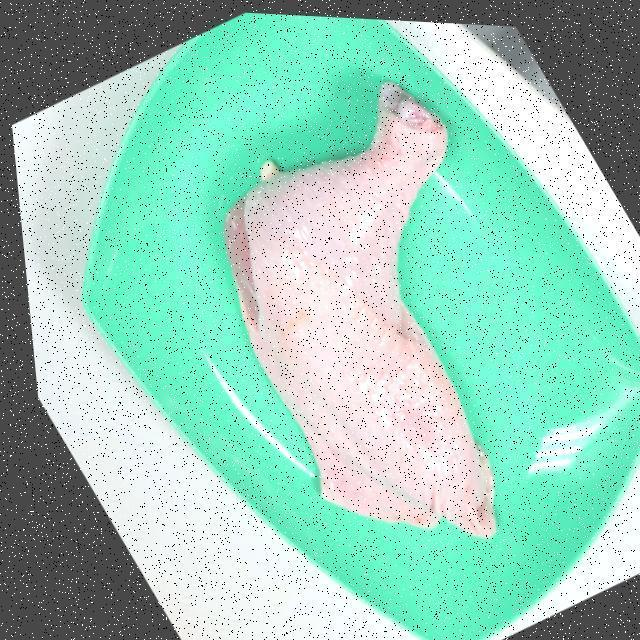quater: (236, 84, 486, 532)
